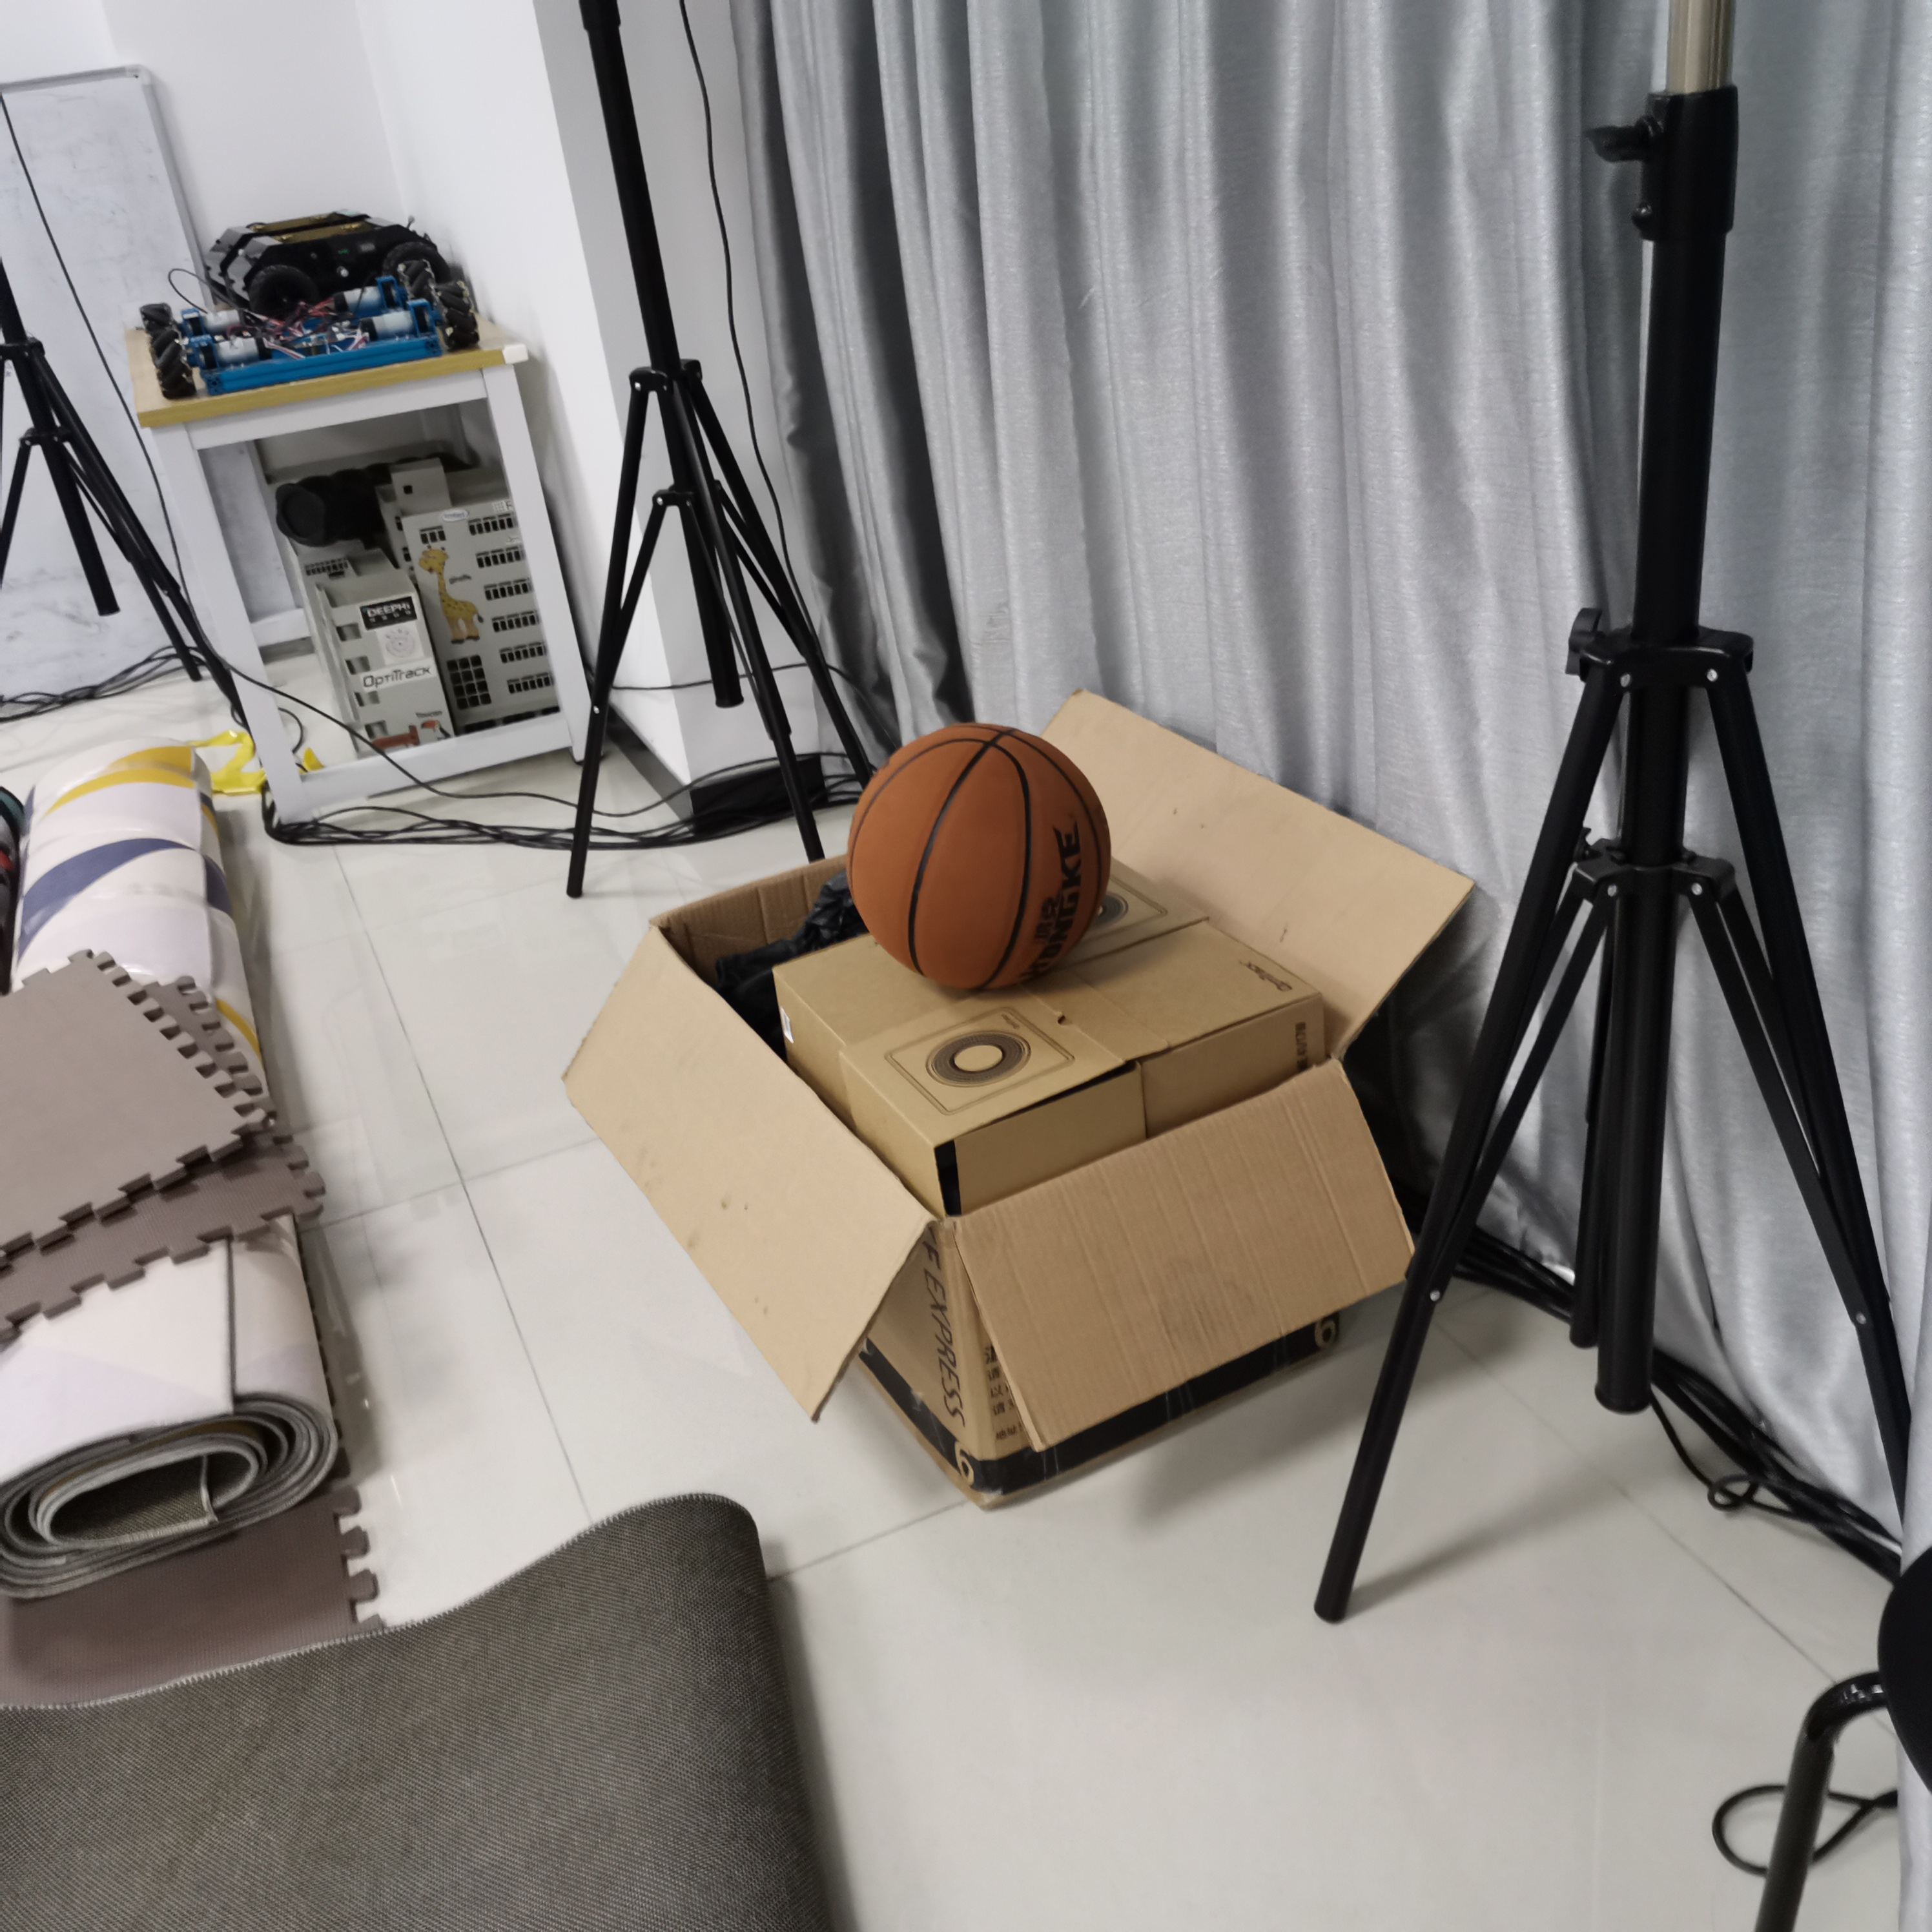basketball: (847, 724, 1111, 993)
